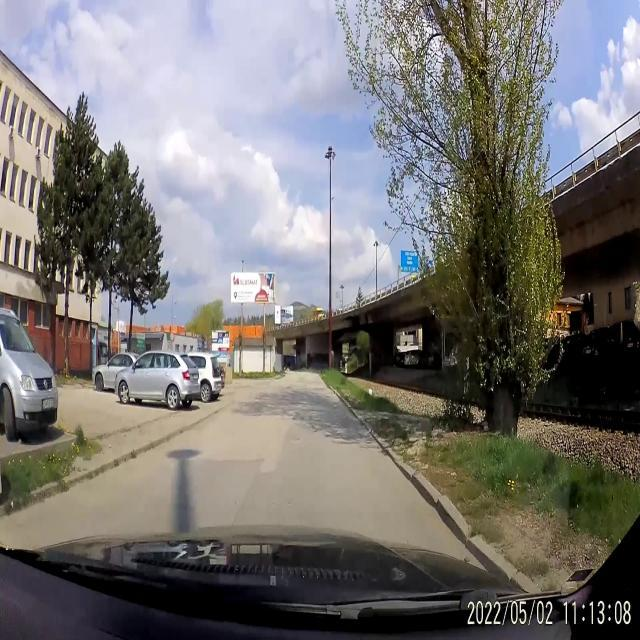Manhole: (164, 444, 203, 460)
